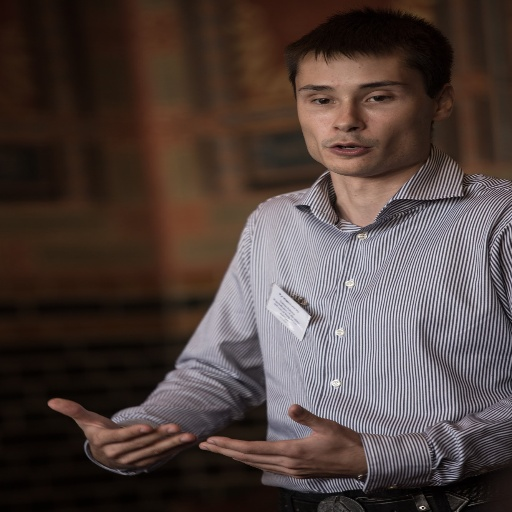hand: (197, 404, 362, 481), (40, 402, 194, 472)
